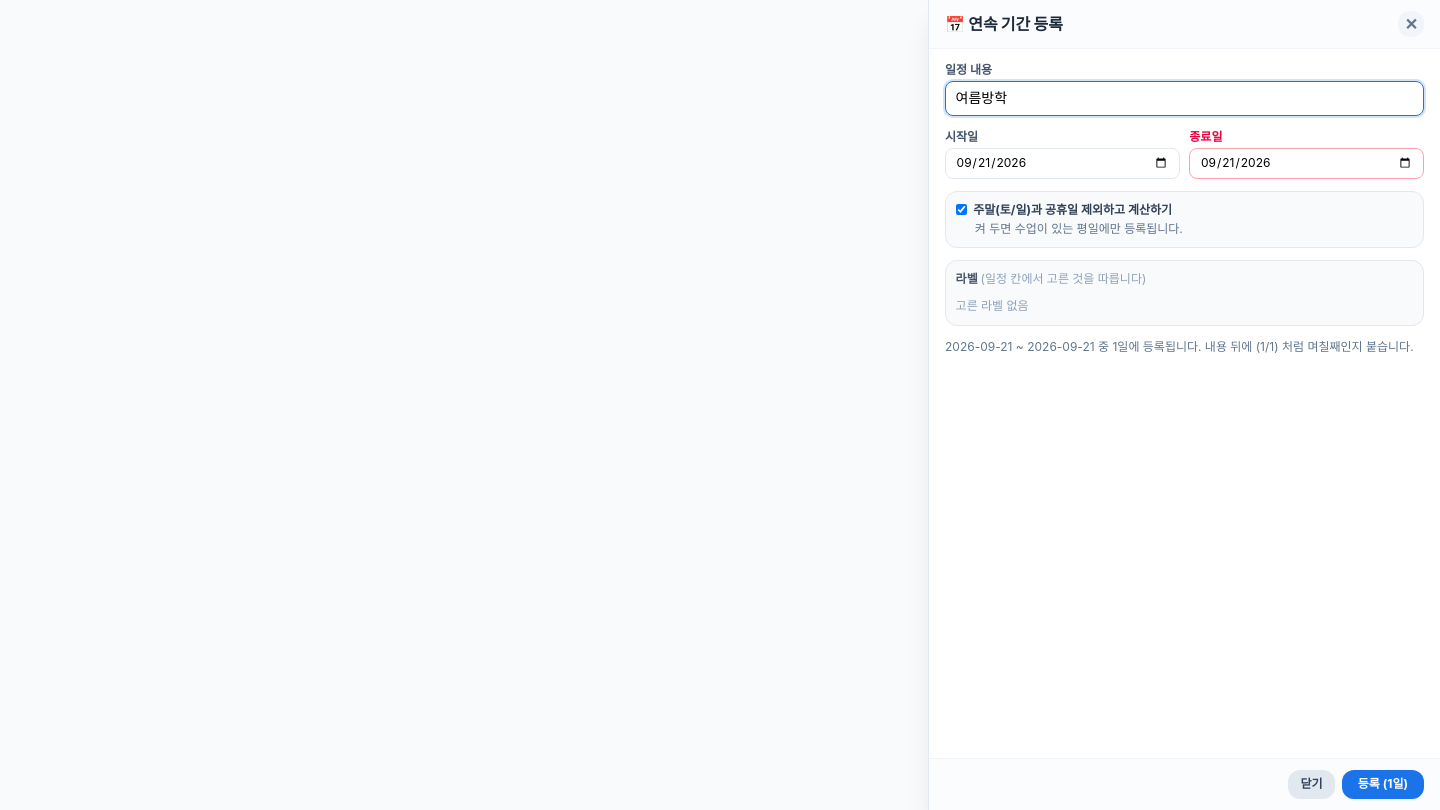
Test case: PeriodModal - 기간 설정 › 주말 제외를 끄면 주말까지 센다
Type "2026-09-27" into the date field labelled "종료일" at {"x": 1307, "y": 163}, box [1189,148,1424,178]
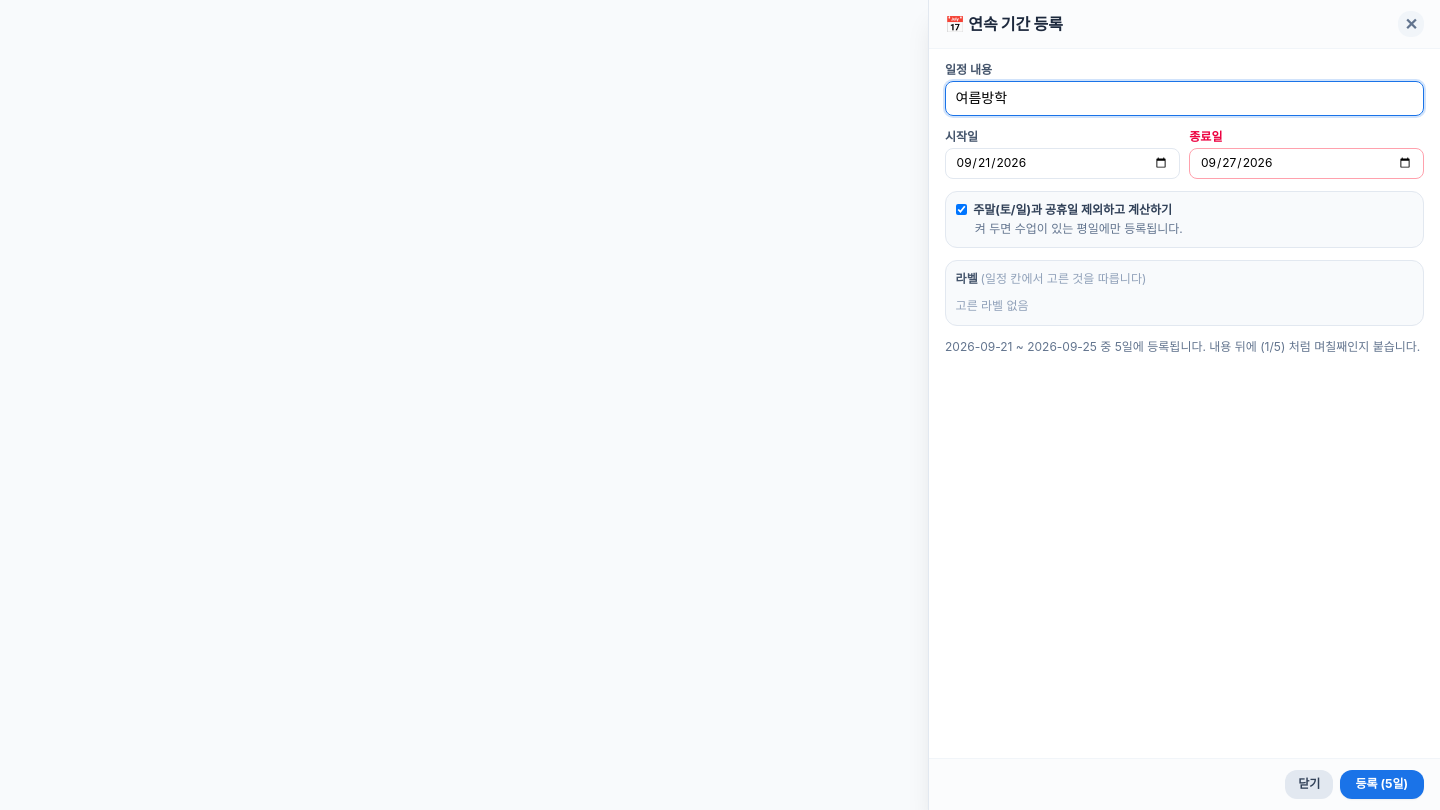
Click the checkbox labelled "주말(토/일)과 공휴일 제외하고 계산하기" at {"x": 961, "y": 210}, box [956,204,967,216]
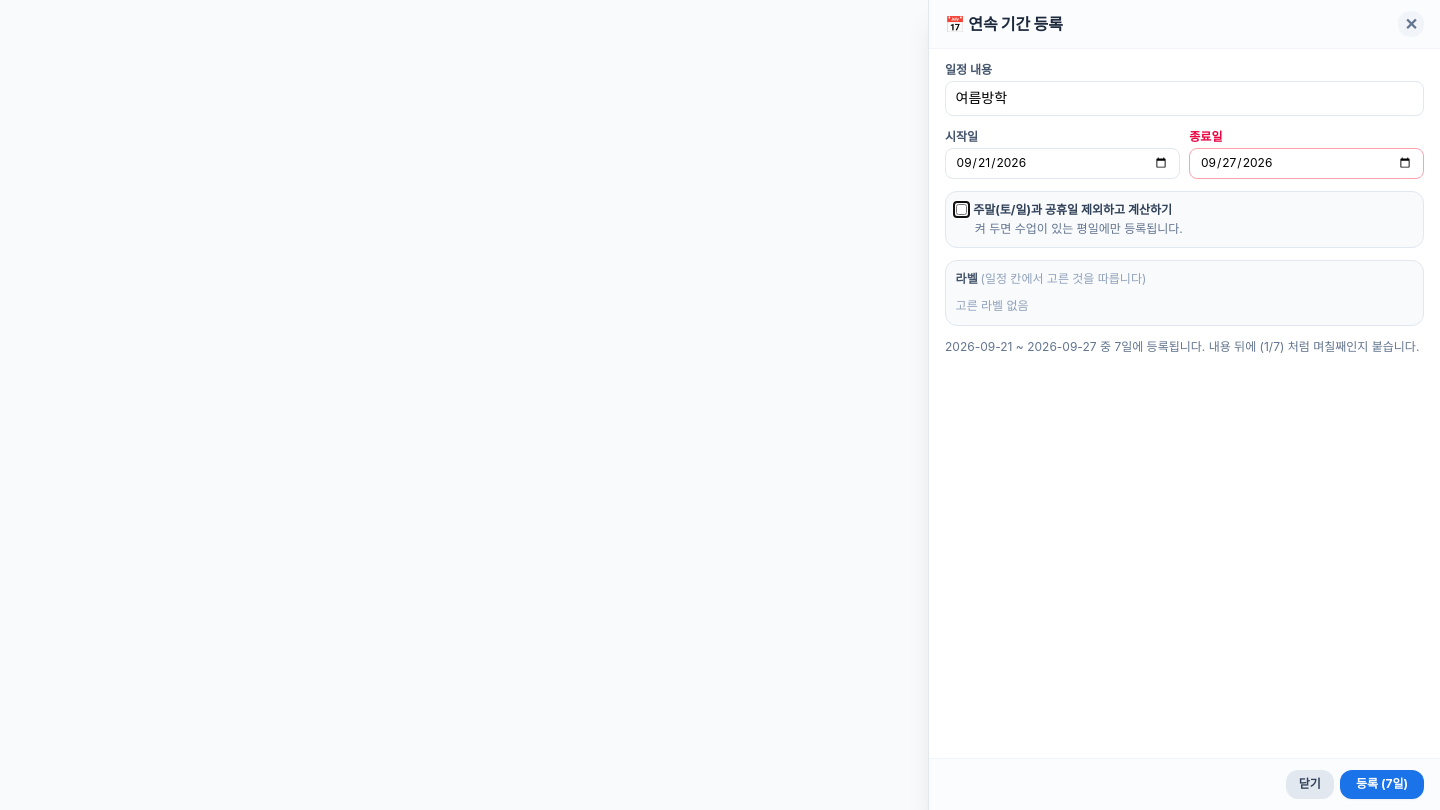
Result: the button "등록 (7일)" is shown at [1340,770,1424,799]
